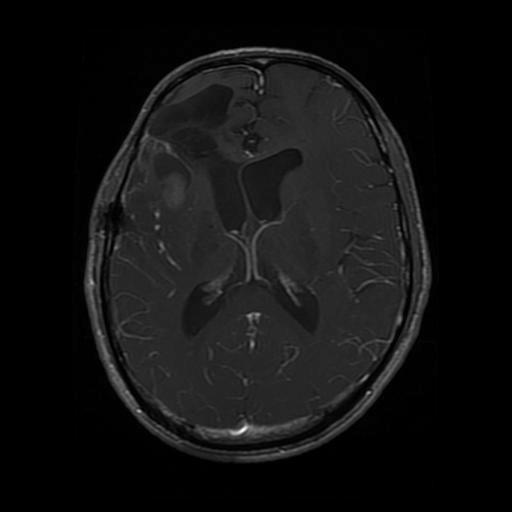Tumour-Glioma: (157, 86, 242, 161)
